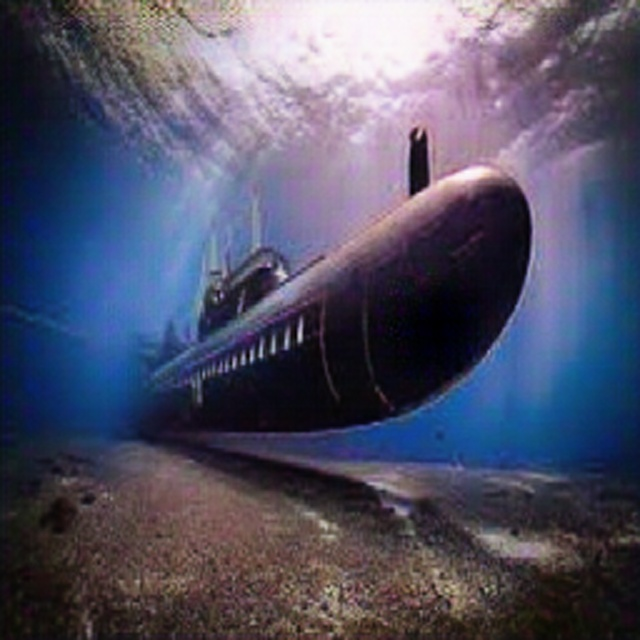submarine: (119, 108, 538, 467)
